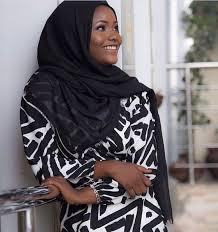No Mask: (66, 4, 148, 94)
